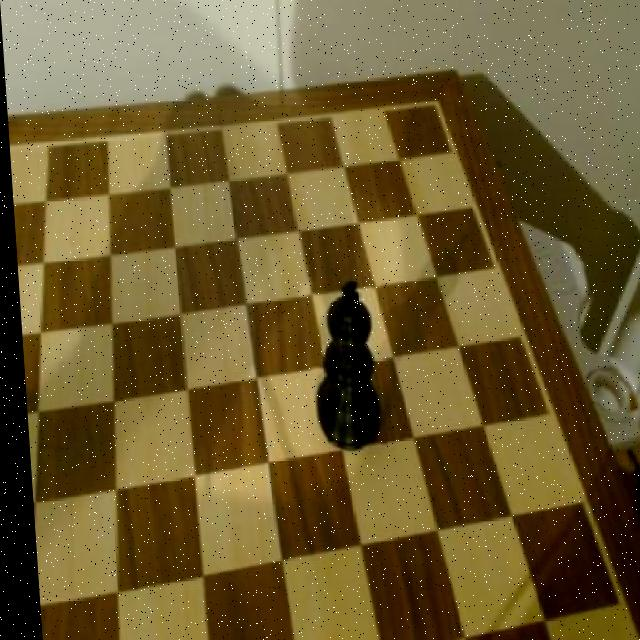black-bishop: (301, 278, 384, 448)
